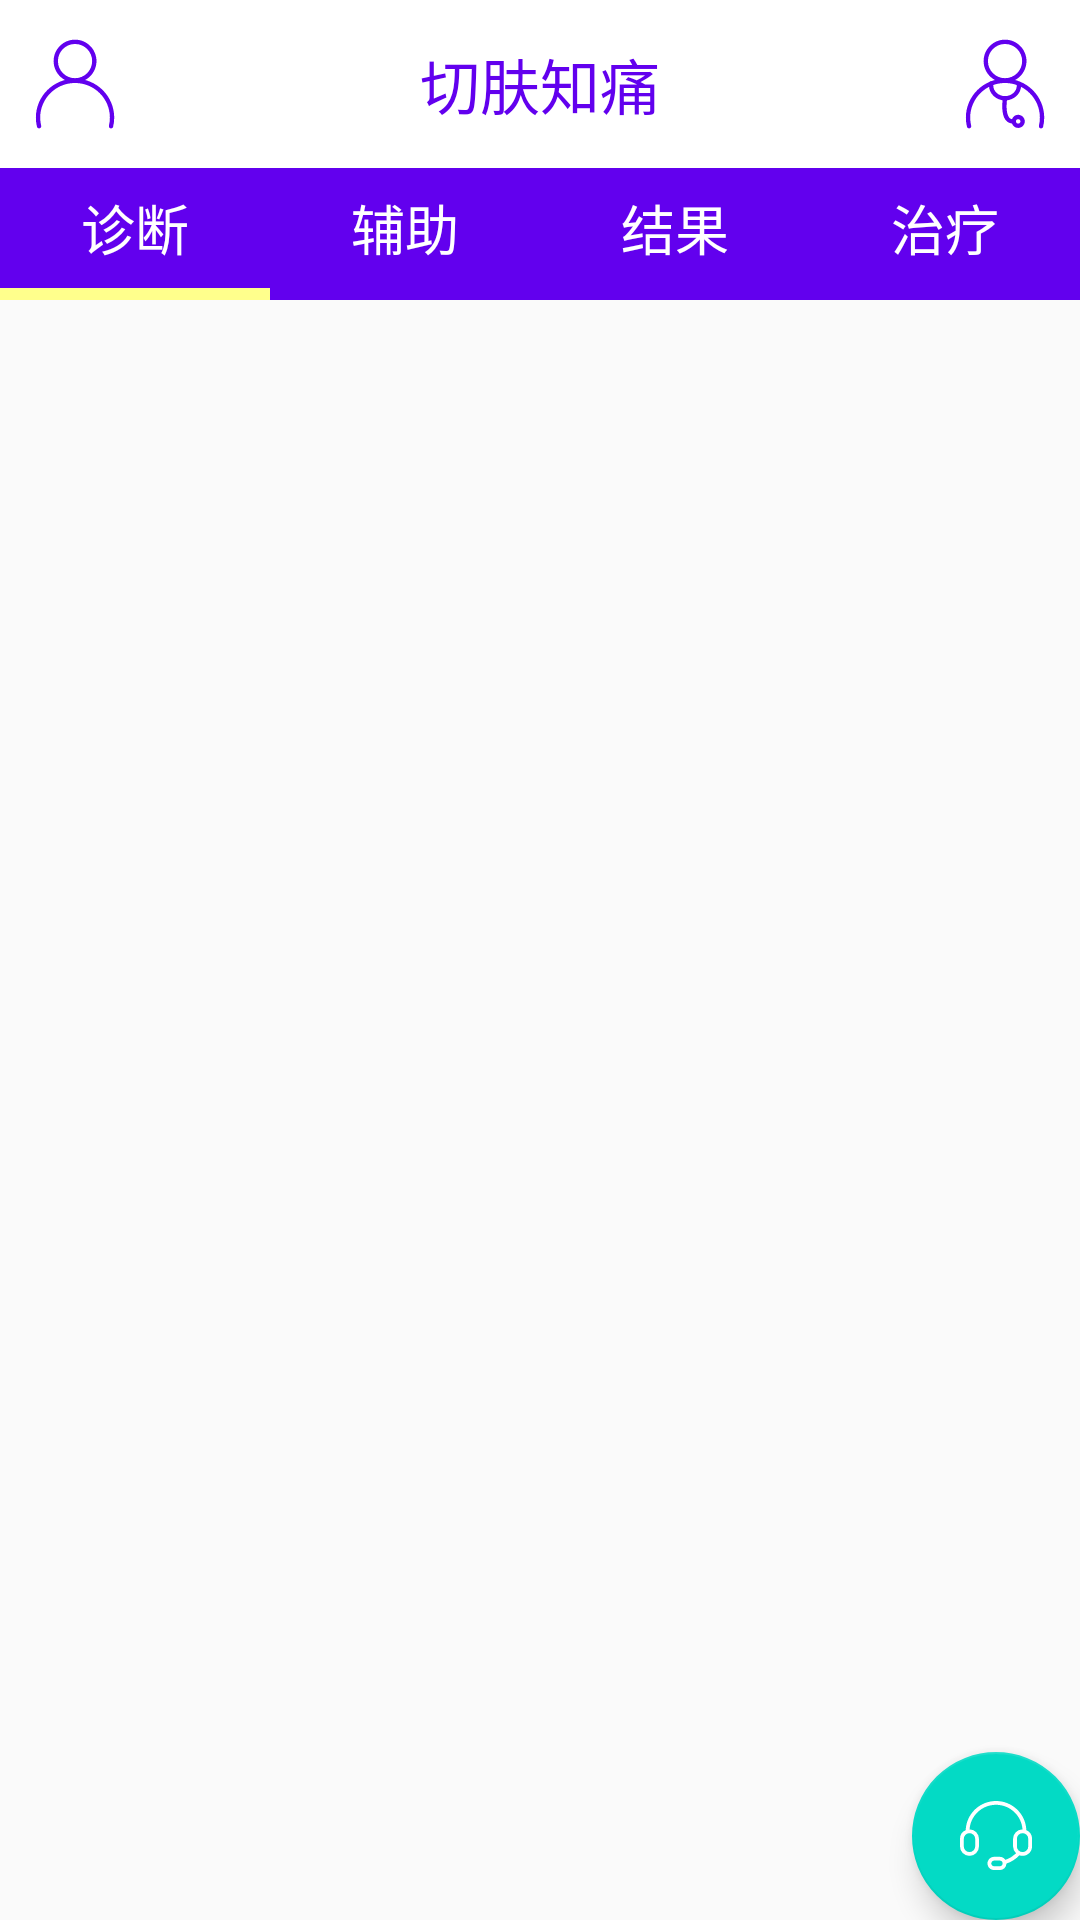

Icon bounding boxes for this 1080px×1920px phone screenshot, format (x1, y1, x2, y2):
ask: (912, 1752, 1080, 1920)
doctor: (966, 39, 1045, 129)
